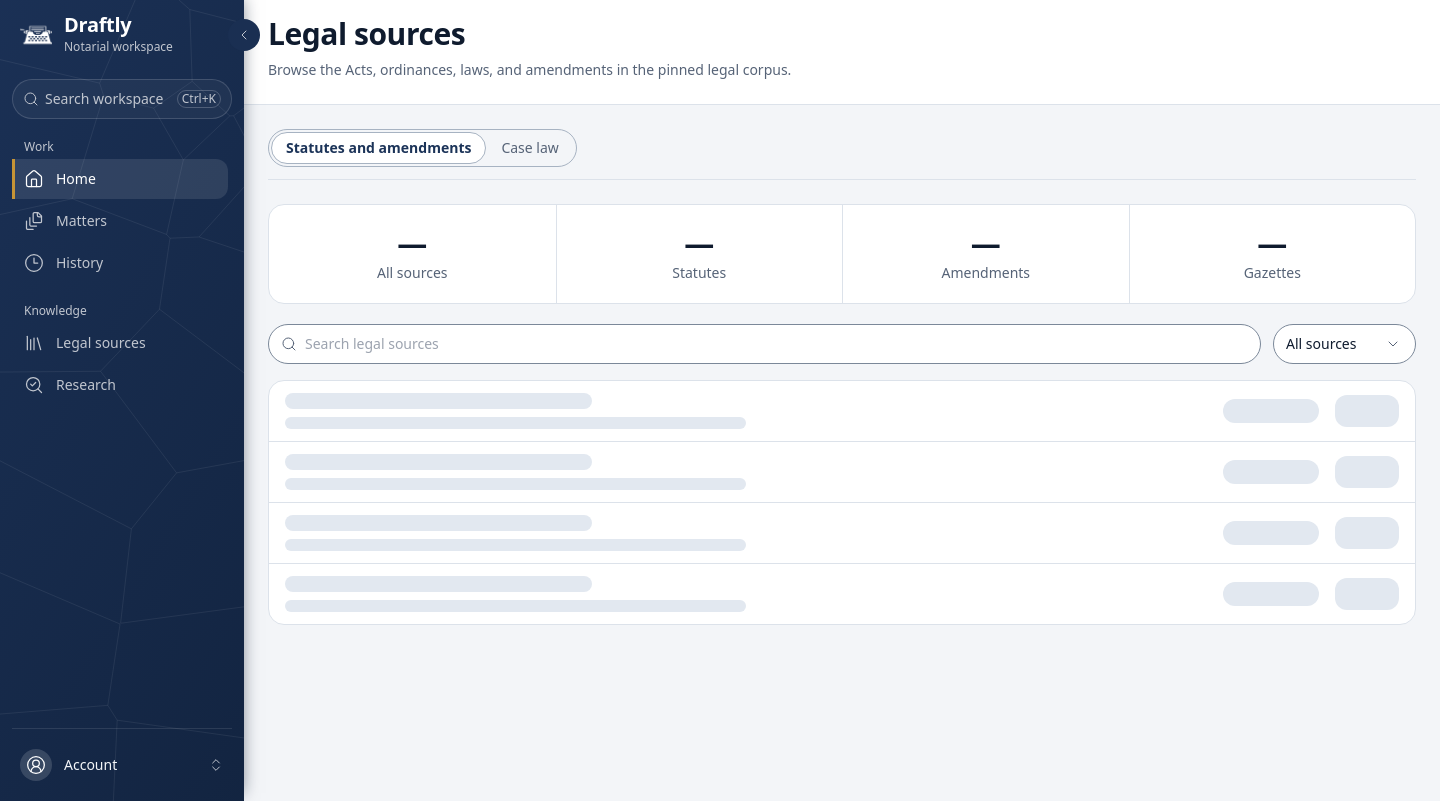
case law entry › opens case catalogue independently from statutory sources
Click the button "Case law": (530, 148) 486,132 -> 574,164
(page scrolled)
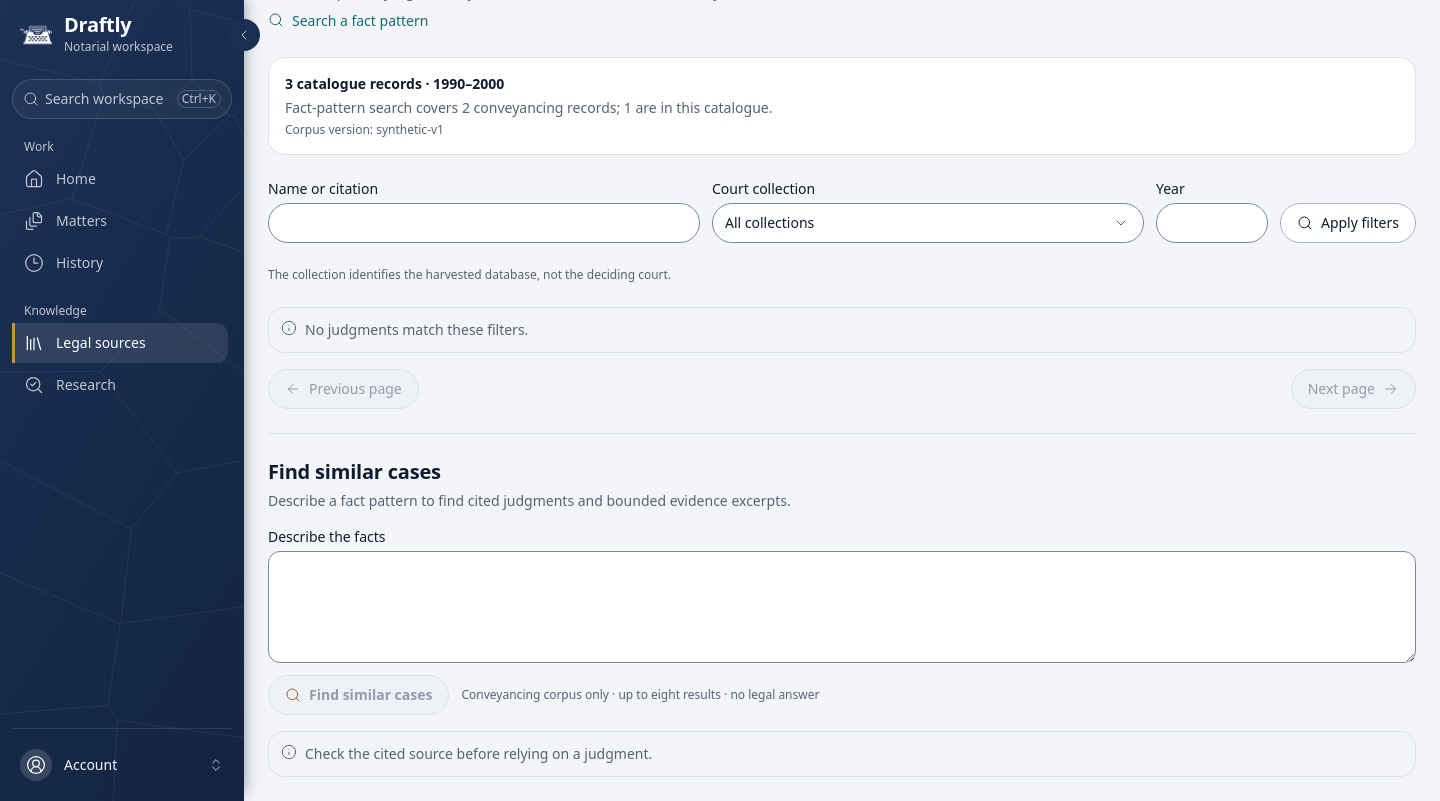
Check: the text "3 catalogue records · 1990–2000" is shown, box 285,74 -> 504,93
Check: the field labelled "Name or citation" is shown, box 268,203 -> 700,243
Check: the text box labelled "Describe the facts" is shown, box 268,551 -> 1416,663
